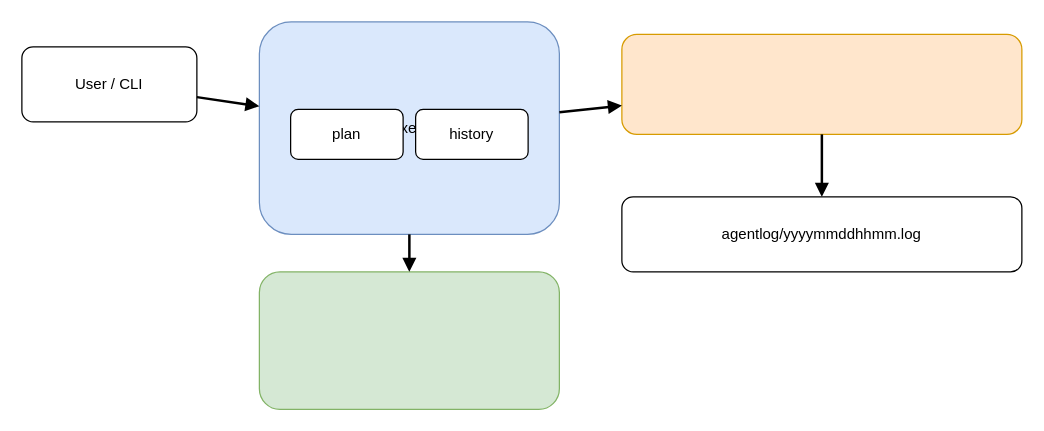
The diagram is 1044 pixels wide and 431 high, and some of its shapes have lost their labels. Each missing label, with the centre of its shape:
"OpenRouterLLM (DeepSeek v3.1)" belongs at point (821, 83).
"Tools" belongs at point (408, 340).
